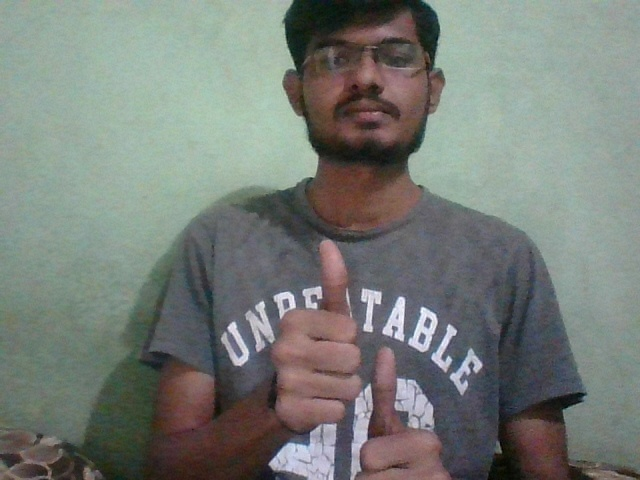which: (247, 230, 478, 480)
